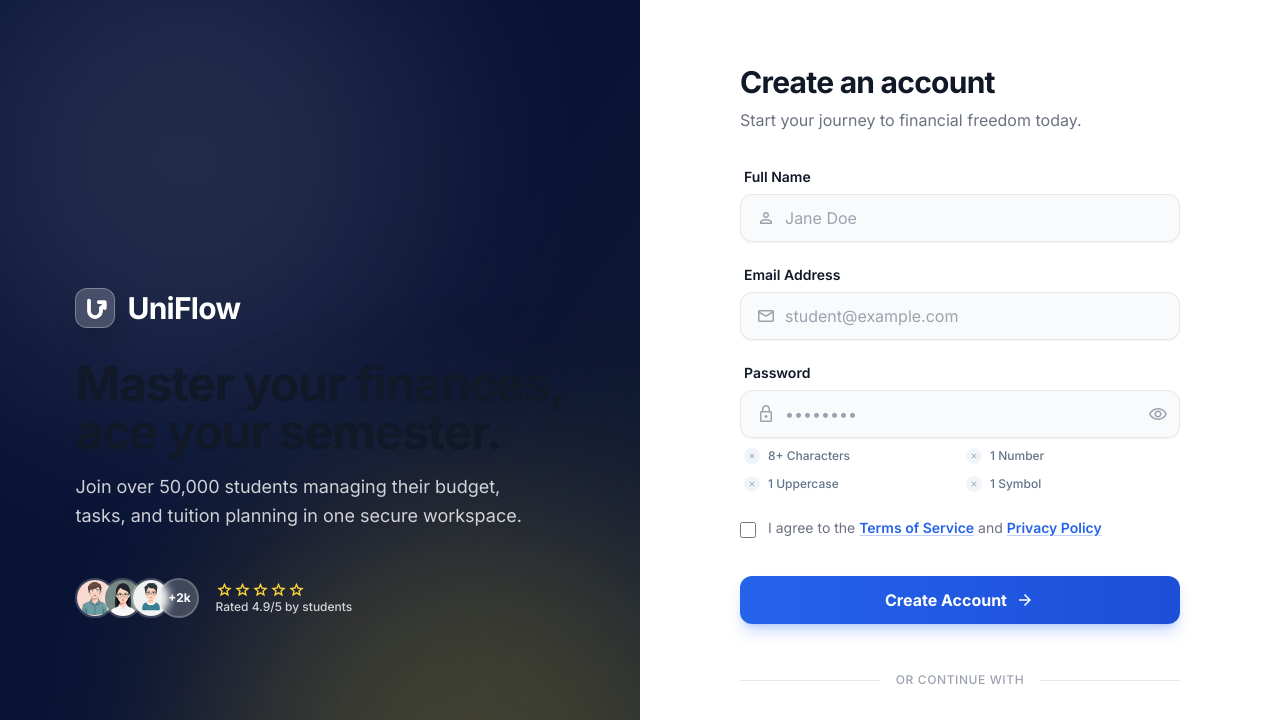
Test: SignupPage › shows validation error if terms are not accepted
Type "John Doe" into the field labelled "Full Name" at (960, 218), box [740,194,1180,242]
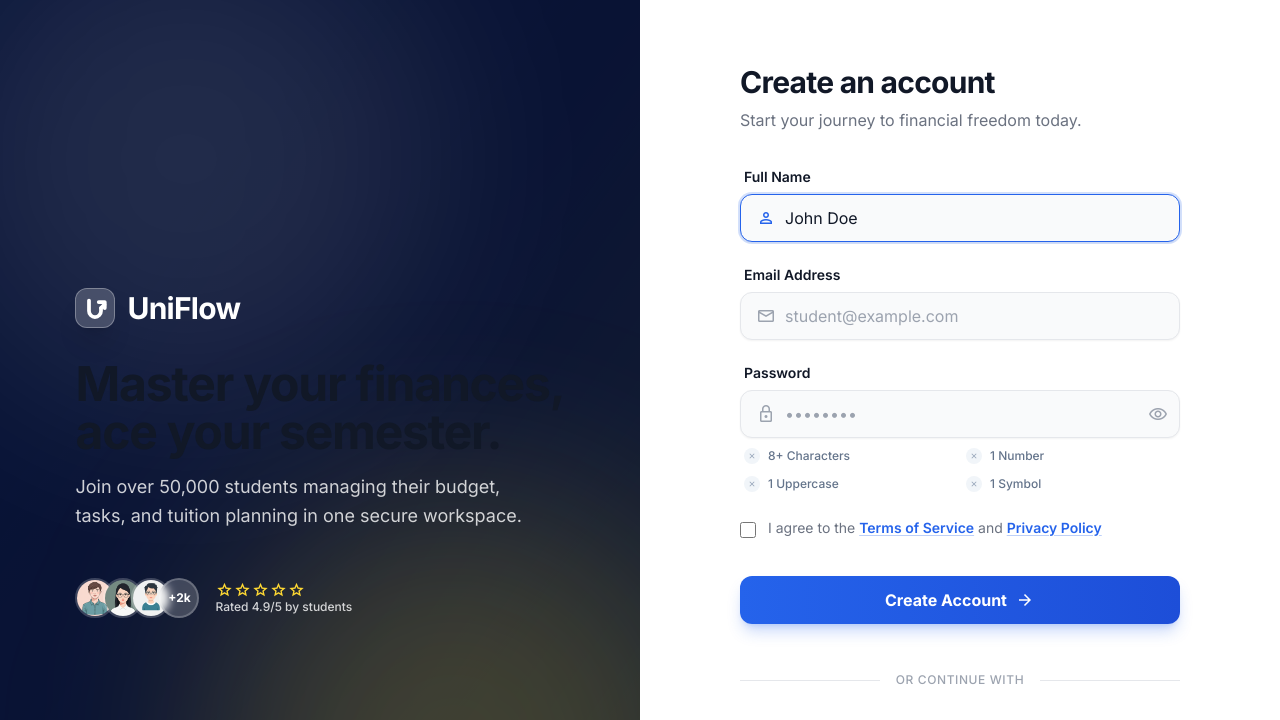
Type "john@example.com" into the field labelled "Email Address" at (960, 316), box [740,292,1180,340]
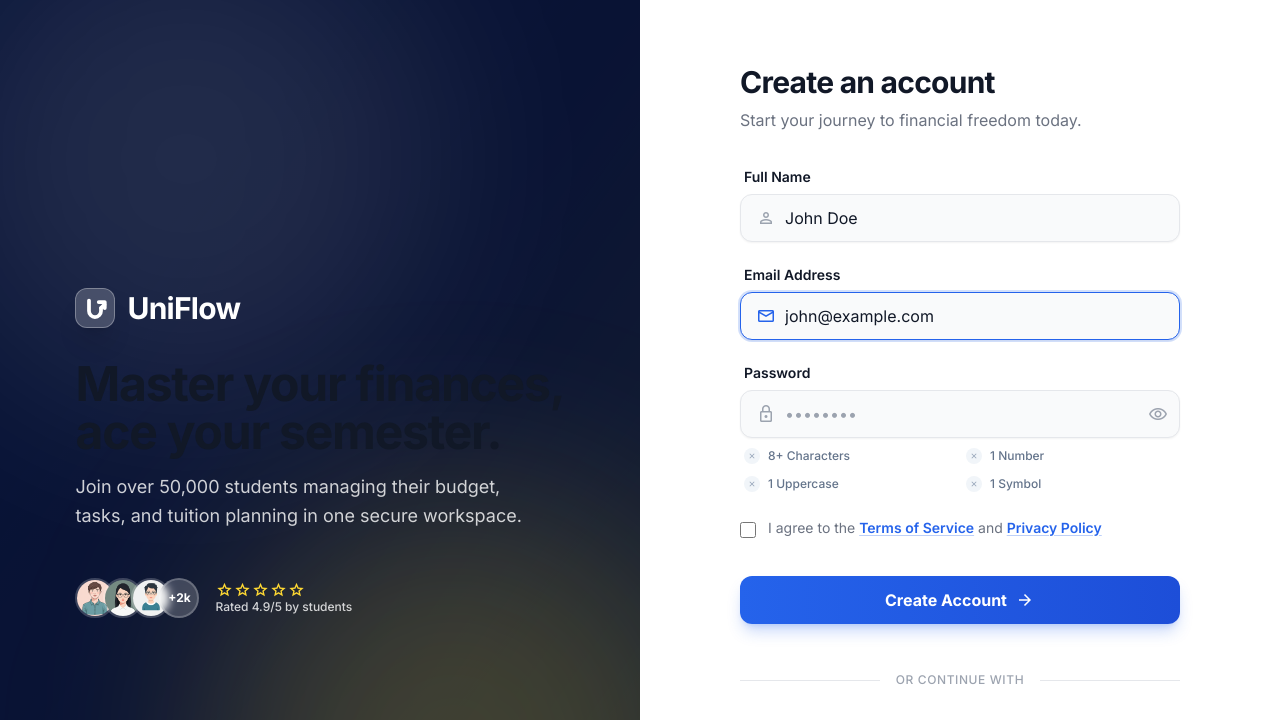
Type "Password123!" into the password field labelled "Password" at (960, 414), box [740,390,1180,438]
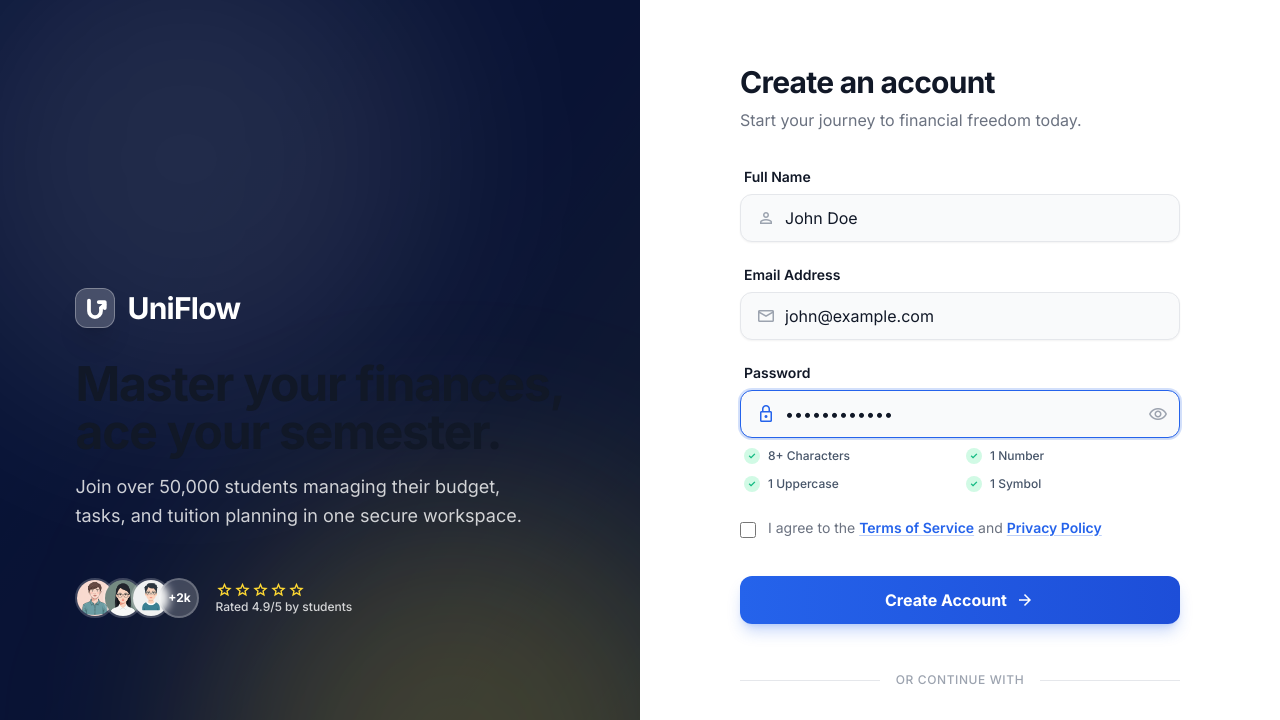
Click the button "Create Account" at (960, 600), box [740,576,1180,624]
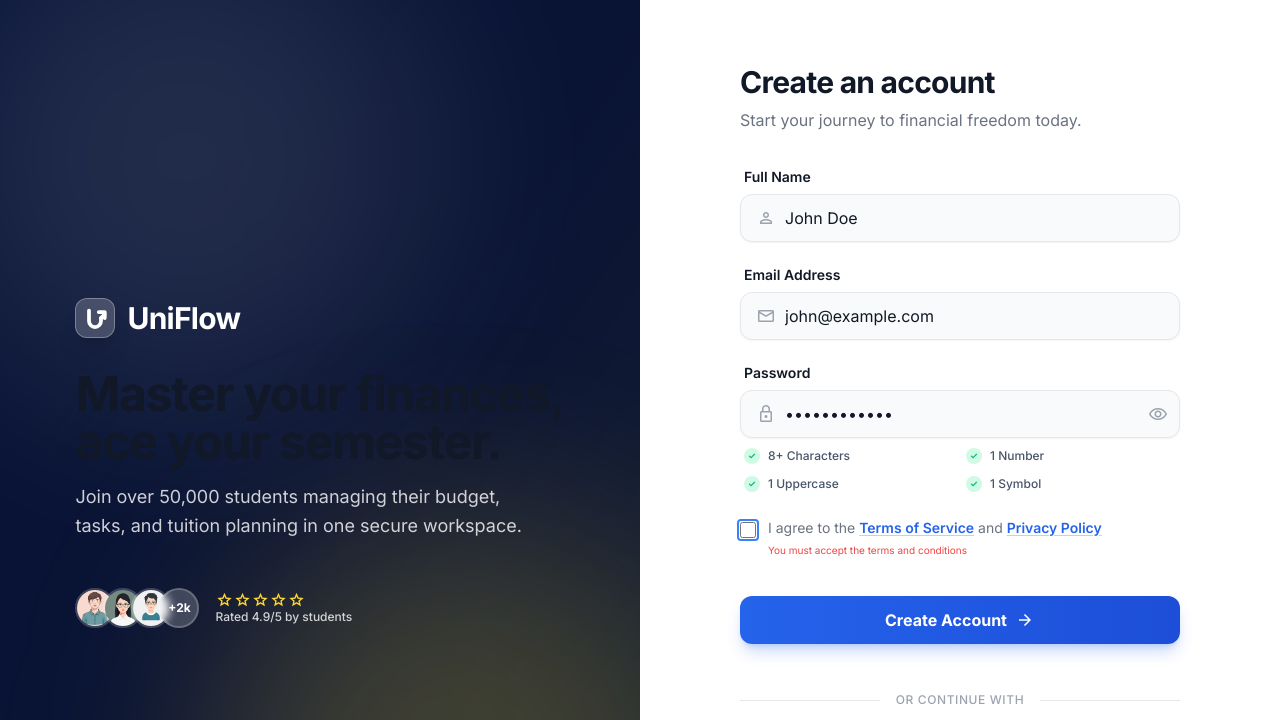
Result: the text "You must accept the terms and conditions" is shown at [768,544,967,556]
